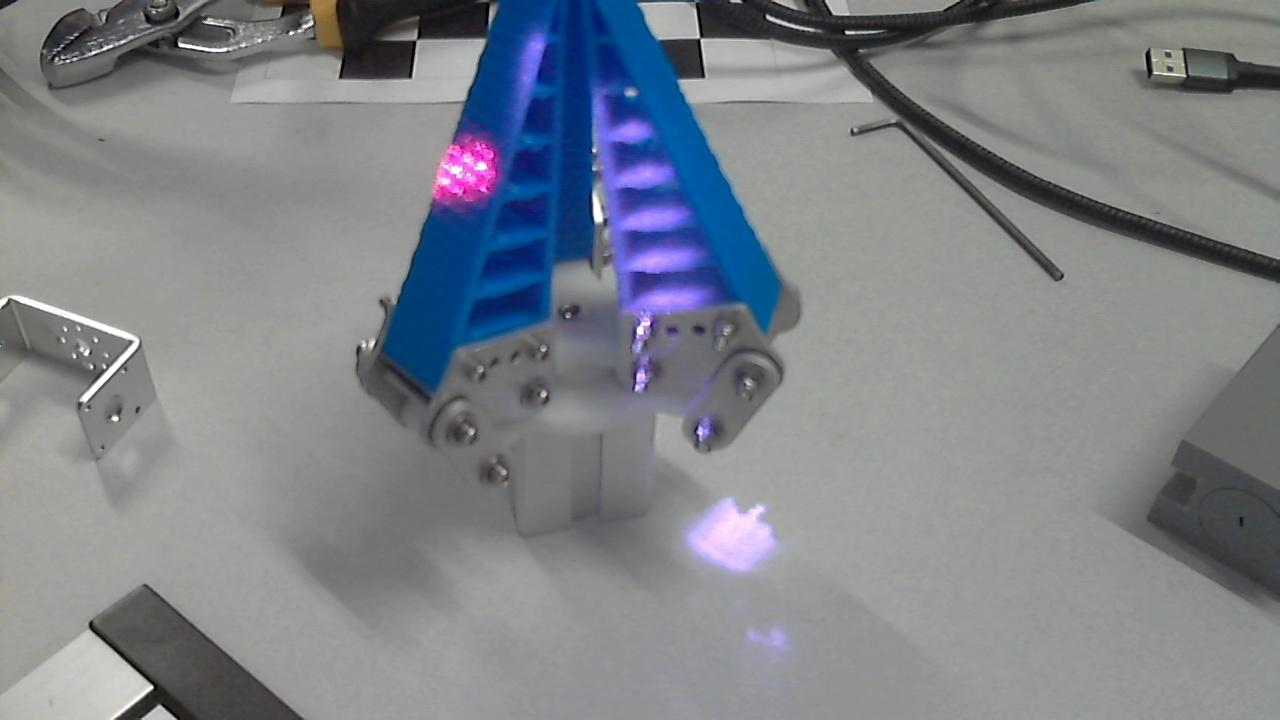Object robotic gripper finger assembly - Material plastic - Color blue - Pdfname: (410, 99, 533, 229)
